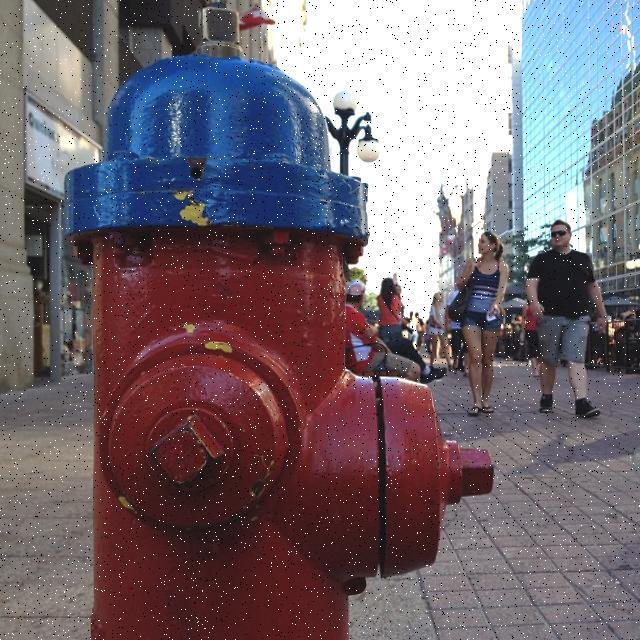fire_hydrant: (62, 5, 494, 633)
